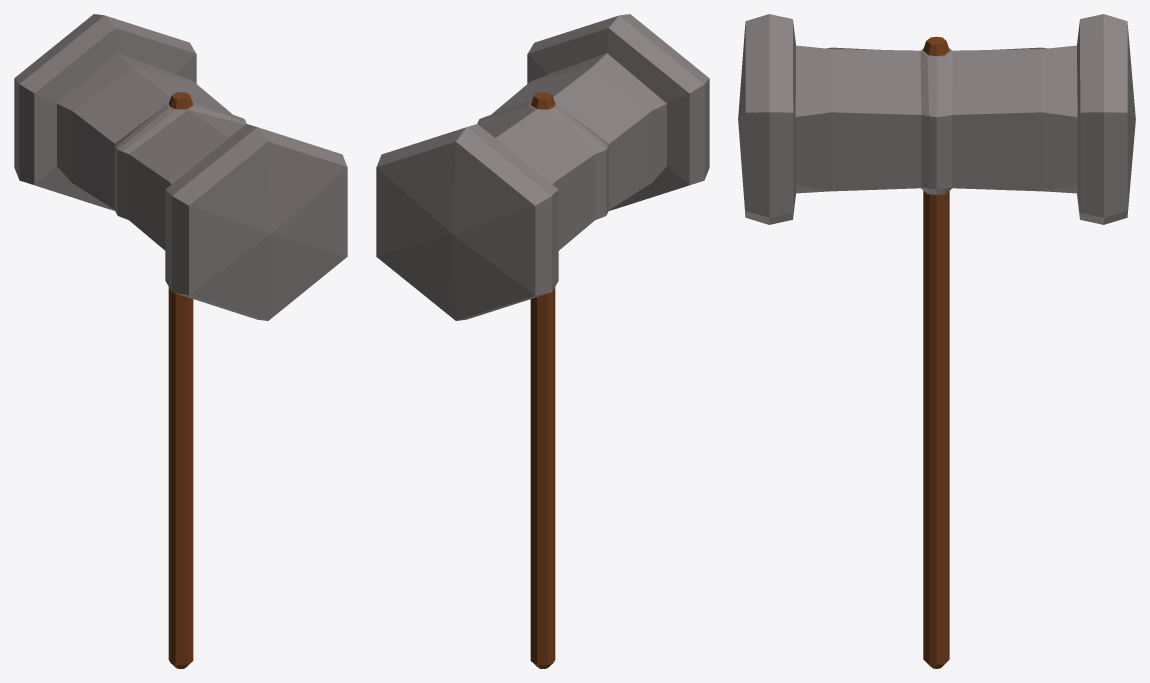
File: Hammer.fbx
3 views of the same model, side by side, from view 1: azimuth 30°, elevation 25°; view 2: azimuth 150°, elevation 25°; view 3: azimuth 270°, elevation 25° (orthographic). The views are drawn at different scales.
Parts seen in each view (by area): view 1: Cylinder; view 2: Cylinder; view 3: Cylinder.
Boxes of the visible parts, x1,y1,x2,y2 form: Cylinder: (14, 14, 347, 668); Cylinder: (376, 14, 709, 668); Cylinder: (738, 14, 1135, 668).
Size of the model in its own units: 42.2 by 141 by 77.91.
